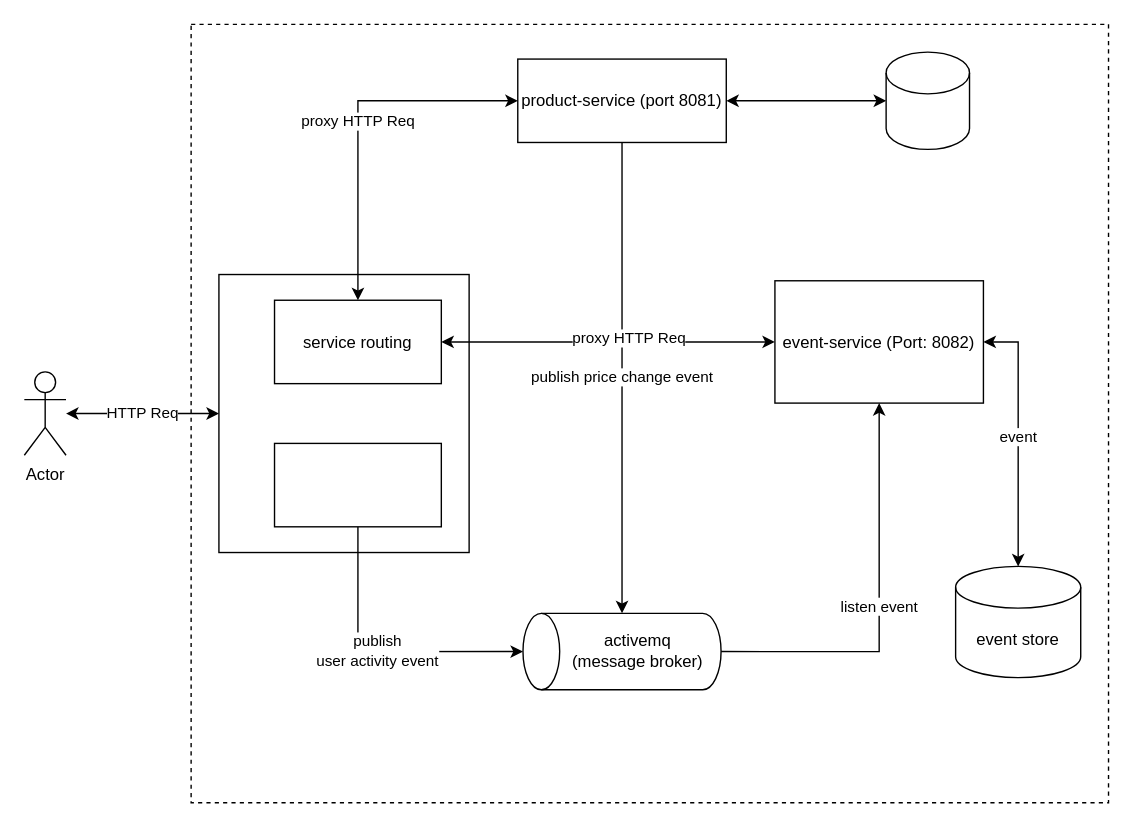
Some shapes in this 1133 by 827 pixel diagram are drawn without their labels. Here are the shapes that lost their labels. From the top down, the box of each, then its label:
(885, 51, 970, 149): database
(218, 273, 469, 553): API Gateway (port 8080)
(273, 442, 441, 527): Filter
